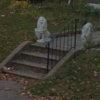Statue: (29, 13, 51, 46)
